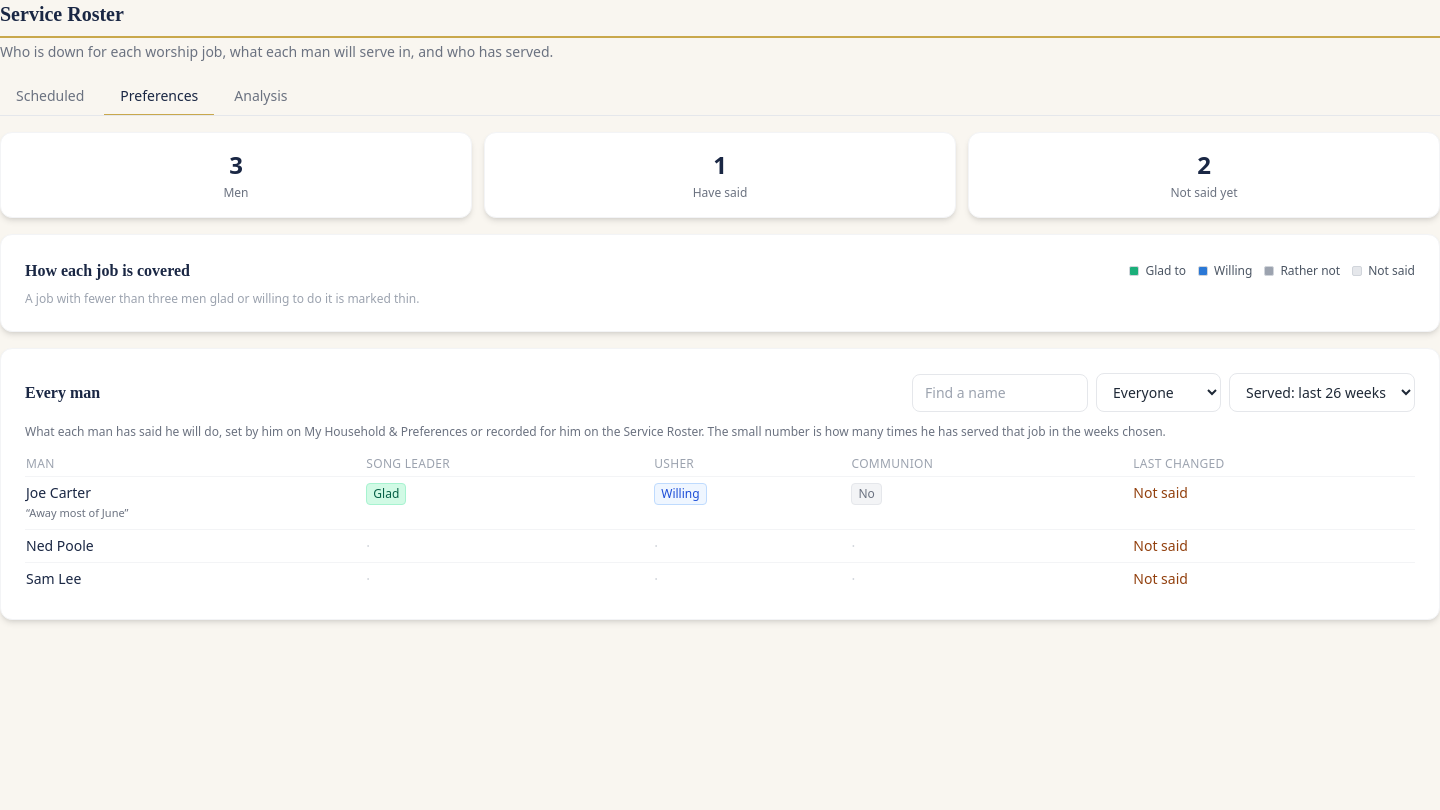
it: ServiceRosterView — opening a man from Preferences › closes without leaving the tab
What coordinates should you click on to do the following:
click the button "Joe Carter"
I would click on:
 (58, 493)
Its box is [26,483,91,503].
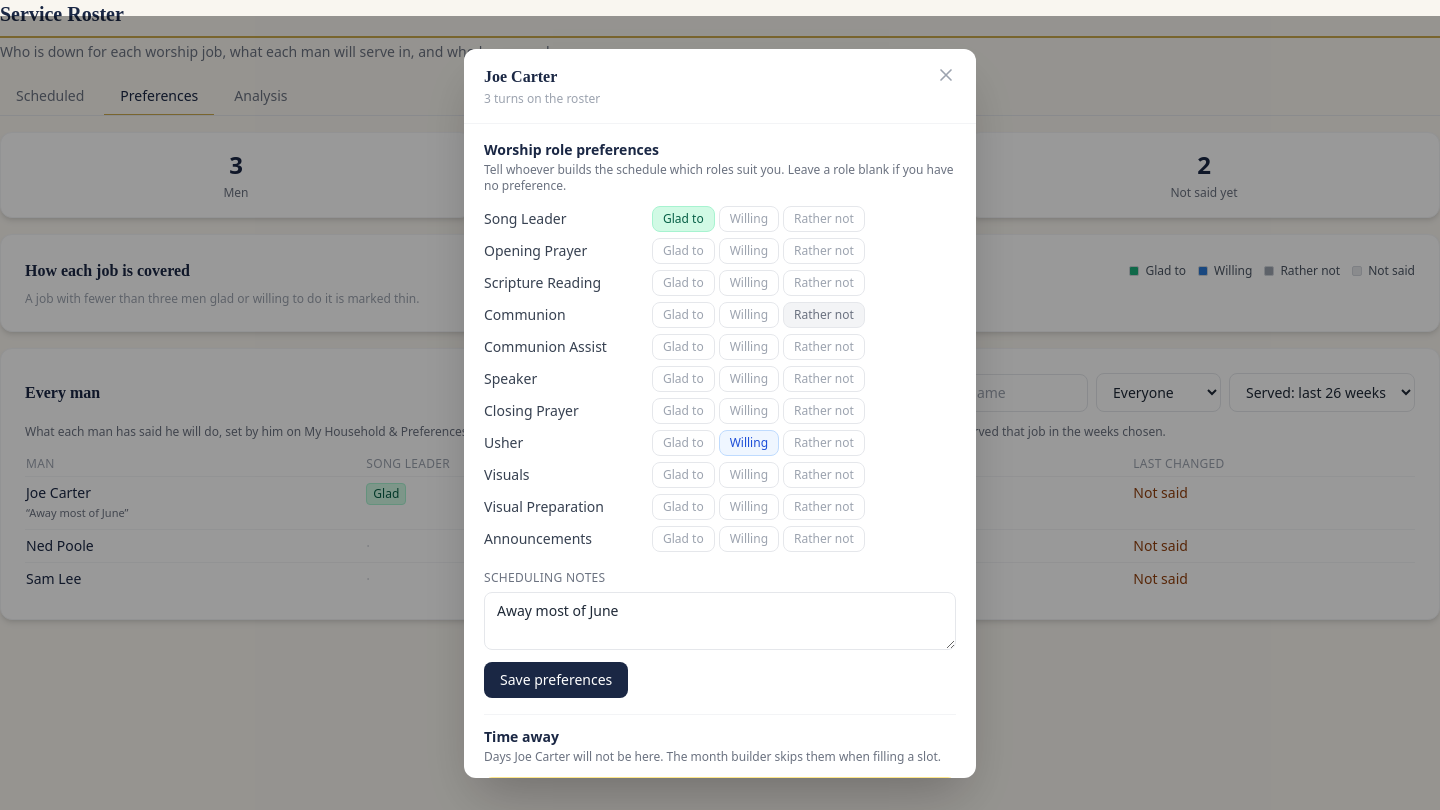
What coordinates should you click on to do the following:
click the button named "Close"
I would click on:
 (946, 74)
Its box is [936,64,956,84].
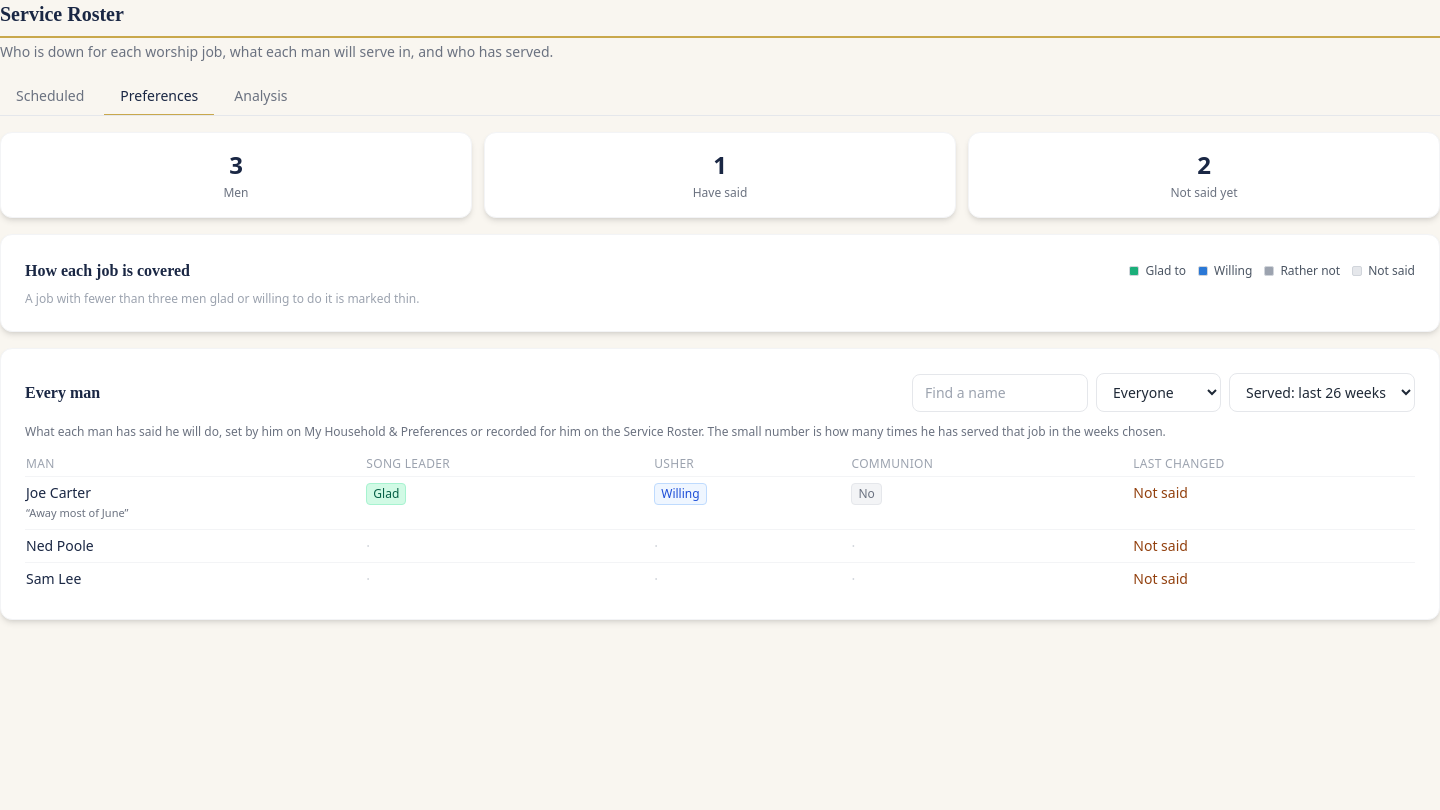
Now the dialog is gone
